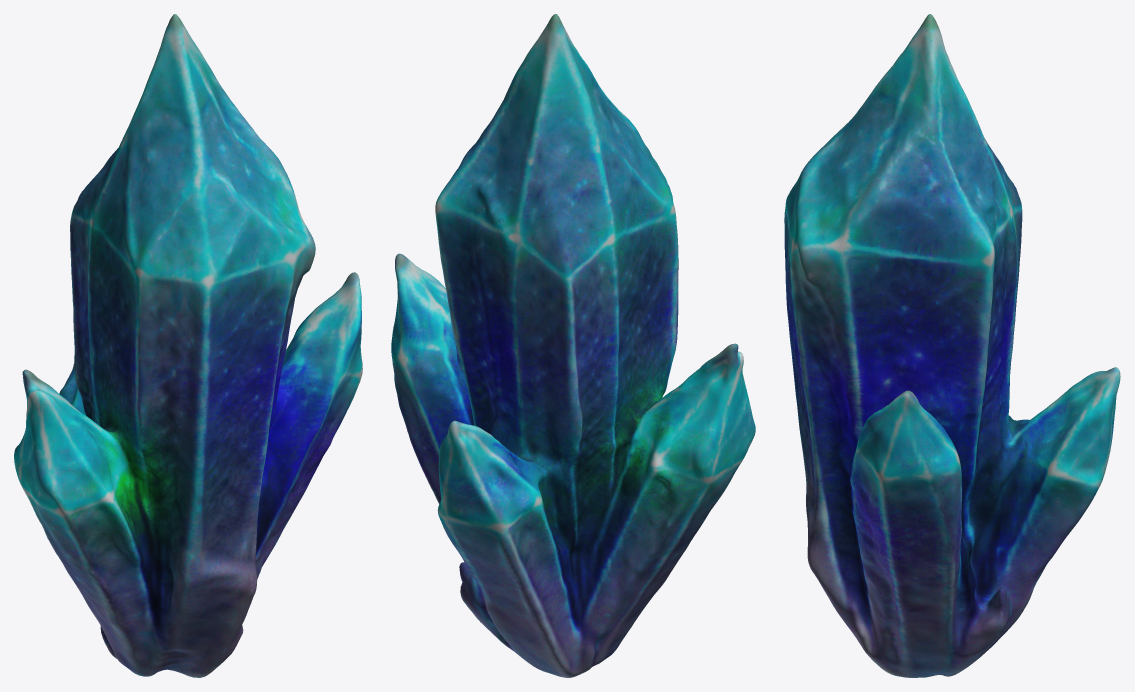
Rendered from e0e33c8409d9_Glowing__Blue_cryst.fbx.
3 views of the same model, side by side, from view 1: azimuth 30°, elevation 25°; view 2: azimuth 150°, elevation 25°; view 3: azimuth 270°, elevation 25° (orthographic).
Parts seen in each view (by area): view 1: high_poly; view 2: high_poly; view 3: high_poly.
Boxes of the visible parts, x1,y1,x2,y2 form: high_poly: [14, 14, 362, 677]; high_poly: [391, 14, 755, 677]; high_poly: [784, 14, 1120, 677].
Bounding box in the file's own units: 54.12 × 100 × 45.99.
